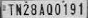character: (15, 3, 22, 16), (46, 3, 53, 16), (30, 3, 37, 15), (23, 3, 29, 16), (70, 2, 76, 15), (8, 3, 14, 15), (39, 3, 45, 15), (54, 3, 60, 15), (63, 2, 68, 15), (78, 2, 83, 15)
